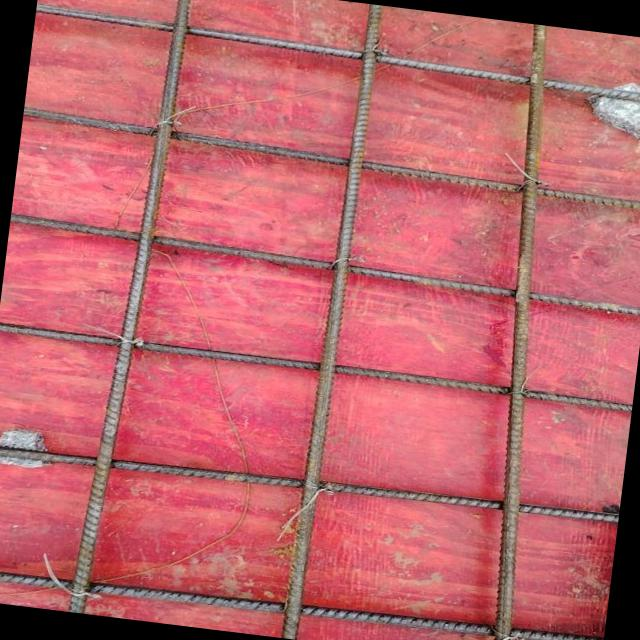ribbed bar: (453, 23, 587, 640), (64, 0, 195, 616), (279, 2, 383, 640), (8, 212, 640, 316), (20, 107, 640, 213), (33, 4, 640, 106), (0, 435, 617, 531), (0, 320, 632, 412), (0, 560, 602, 640)
